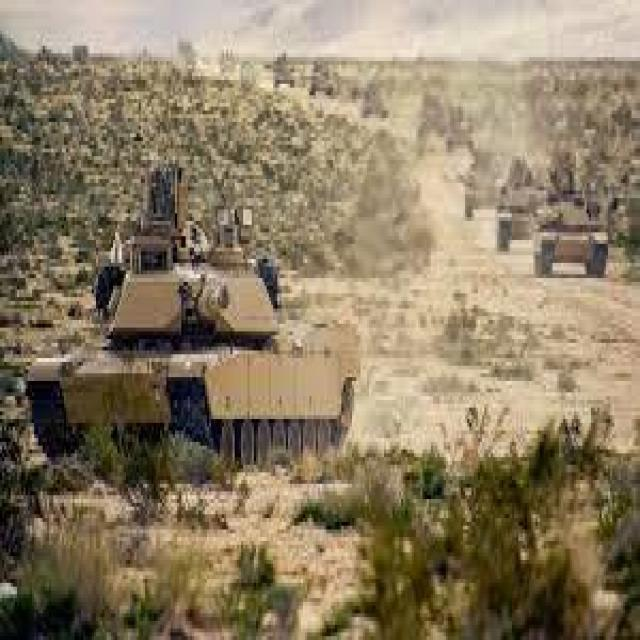Tanks: (31, 114, 415, 537), (494, 126, 579, 320), (443, 156, 508, 232)
